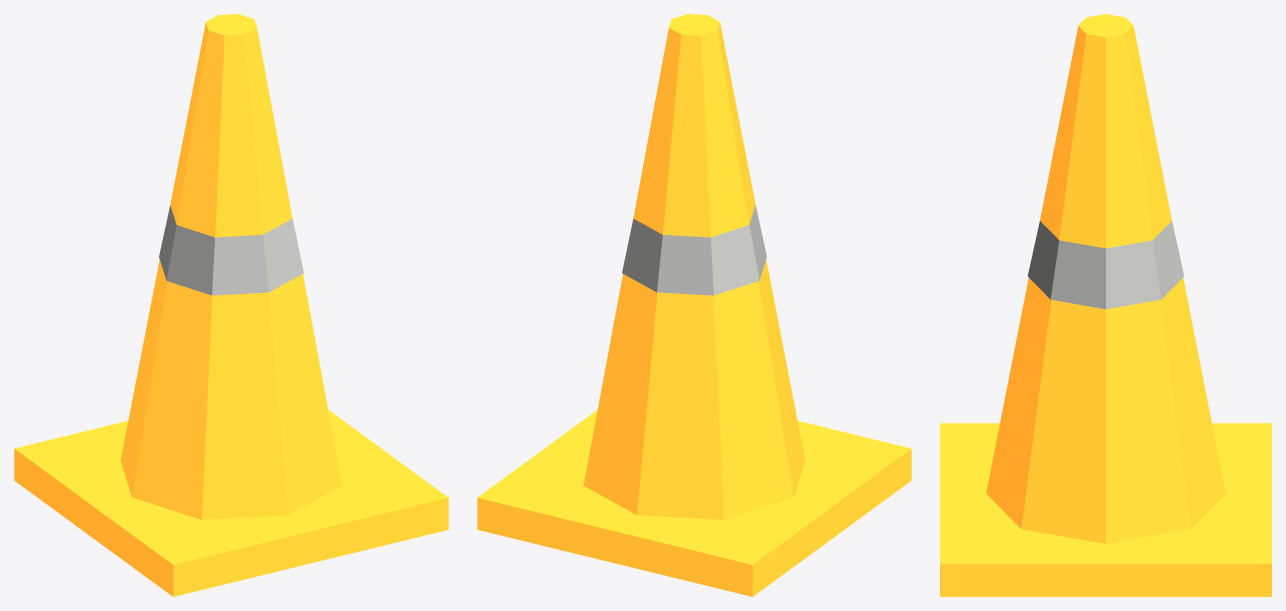
Rendered from prop_cone.glb.
3 renders of one model, left to right at view 1: azimuth 30°, elevation 25°; view 2: azimuth 150°, elevation 25°; view 3: azimuth 270°, elevation 25°, orthographic. The views are drawn at different scales.
Visible parts, largest first — view 1: prop_cone__mesh; view 2: prop_cone__mesh; view 3: prop_cone__mesh.
Boxes of the visible parts, x1,y1,x2,y2 form: prop_cone__mesh: [14, 14, 448, 596]; prop_cone__mesh: [477, 14, 911, 596]; prop_cone__mesh: [940, 14, 1271, 596].
Bounding box in the file's own units: 0.36 × 0.6 × 0.36.
